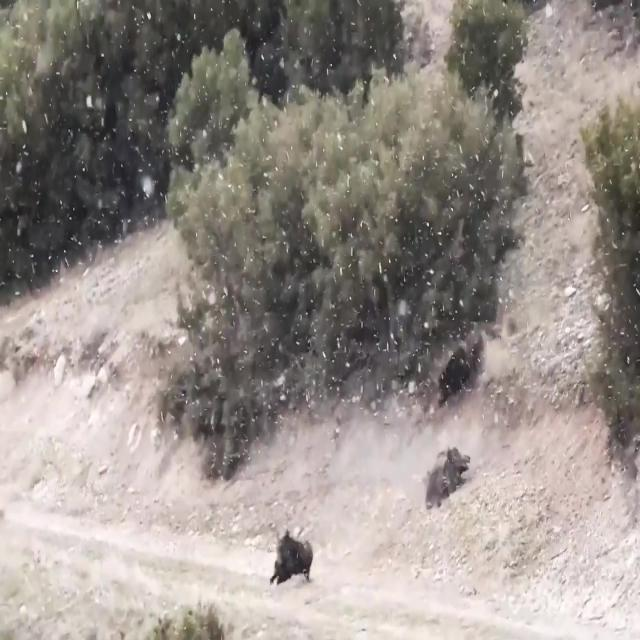pig: (425, 443, 480, 516), (269, 520, 321, 588), (435, 336, 480, 411)
